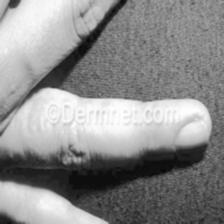Non-Cancerous Skin Condition: (16, 99, 67, 160), (55, 91, 124, 113)
